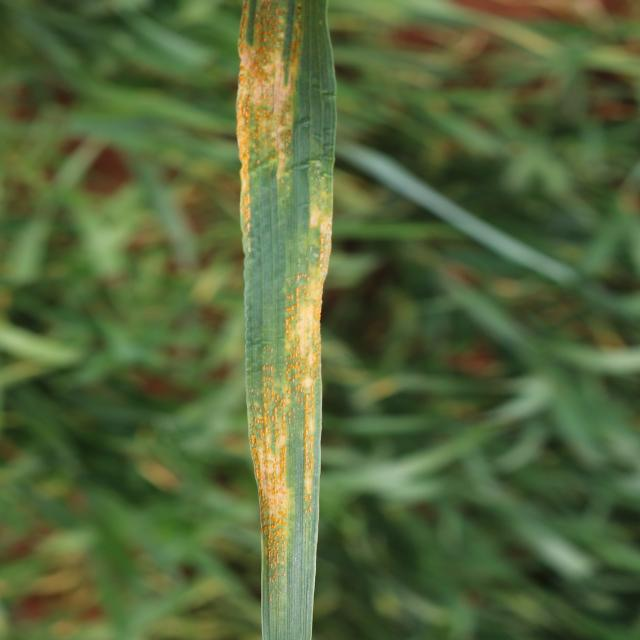Stripe Rust: (238, 1, 304, 153), (252, 397, 289, 562), (285, 274, 321, 399), (298, 399, 317, 515), (307, 205, 329, 273), (240, 153, 251, 220), (271, 155, 295, 180)
